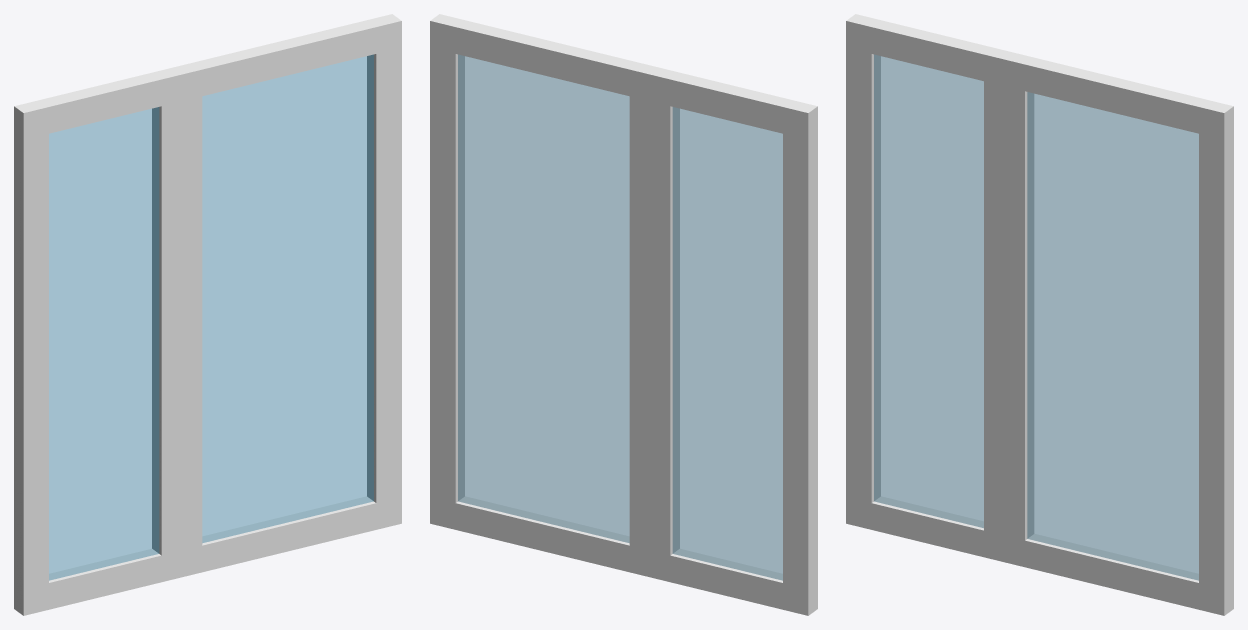
Rendered from balcony_door.glb.
3 renders of one model, left to right at view 1: azimuth 30°, elevation 25°; view 2: azimuth 150°, elevation 25°; view 3: azimuth 330°, elevation 25°, orthographic.
Visible parts, largest first — view 1: right-pane, left-pane, frame; view 2: right-pane, left-pane, frame; view 3: right-pane, left-pane, frame.
Part boxes in pixels (<box>): right-pane: <box>182,27,396,571</box>; left-pane: <box>28,80,181,609</box>; frame: <box>14,14,401,615</box>; right-pane: <box>435,27,649,571</box>; left-pane: <box>650,80,803,609</box>; frame: <box>430,14,817,615</box>; right-pane: <box>1004,65,1219,609</box>; left-pane: <box>851,27,1004,556</box>; frame: <box>846,14,1233,615</box>.
Bounding box in the file's own units: 1.85 × 2.35 × 0.08.
